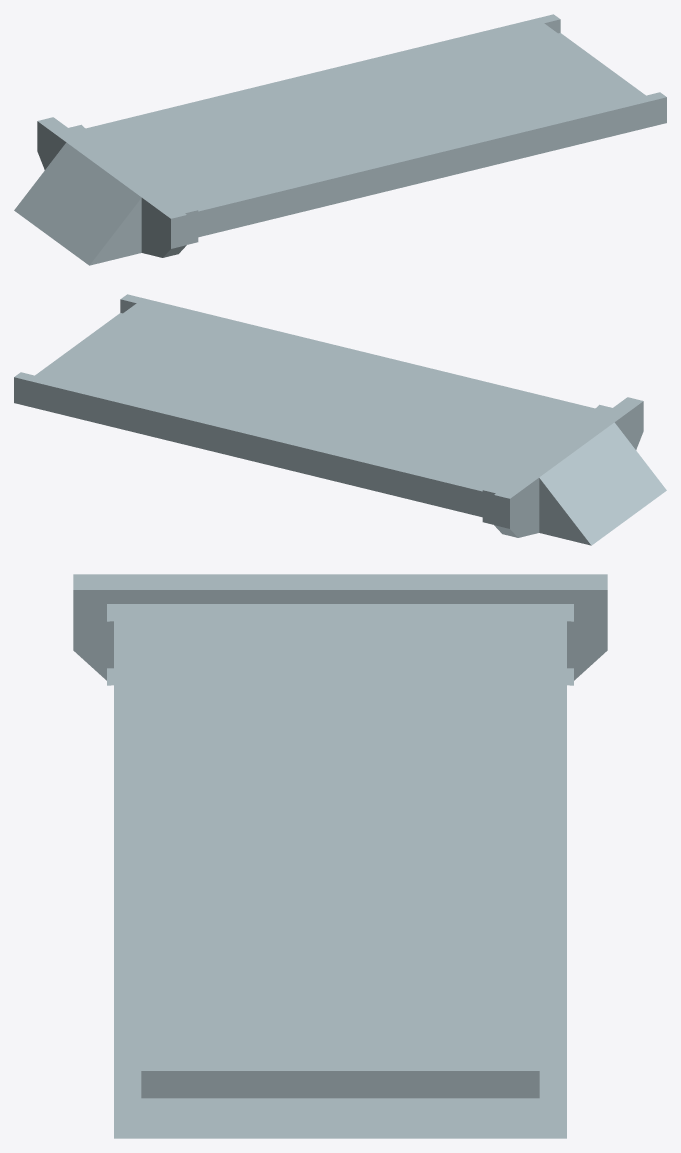
Rendered from Bridge.fbx.
3 views of the same model, one above another, from view 1: azimuth 30°, elevation 25°; view 2: azimuth 150°, elevation 25°; view 3: azimuth 270°, elevation 25° (orthographic). The views are drawn at different scales.
Parts seen in each view (by area): view 1: 立方体.096, 立方体.095, 立方体.094; view 2: 立方体.096, 立方体.095, 立方体.094; view 3: 立方体.096, 立方体.095, 立方体.094.
Boxes of the visible parts, x1,y1,x2,y2 form: 立方体.096: [14, 23, 643, 265]; 立方体.095: [86, 14, 666, 237]; 立方体.094: [69, 124, 198, 244]; 立方体.096: [37, 303, 666, 545]; 立方体.095: [14, 294, 594, 517]; 立方体.094: [482, 404, 611, 524]; 立方体.096: [73, 574, 607, 1098]; 立方体.095: [114, 620, 566, 1138]; 立方体.094: [107, 604, 573, 685].
Bounding box in the file's own units: 553 × 229 × 52.34.
